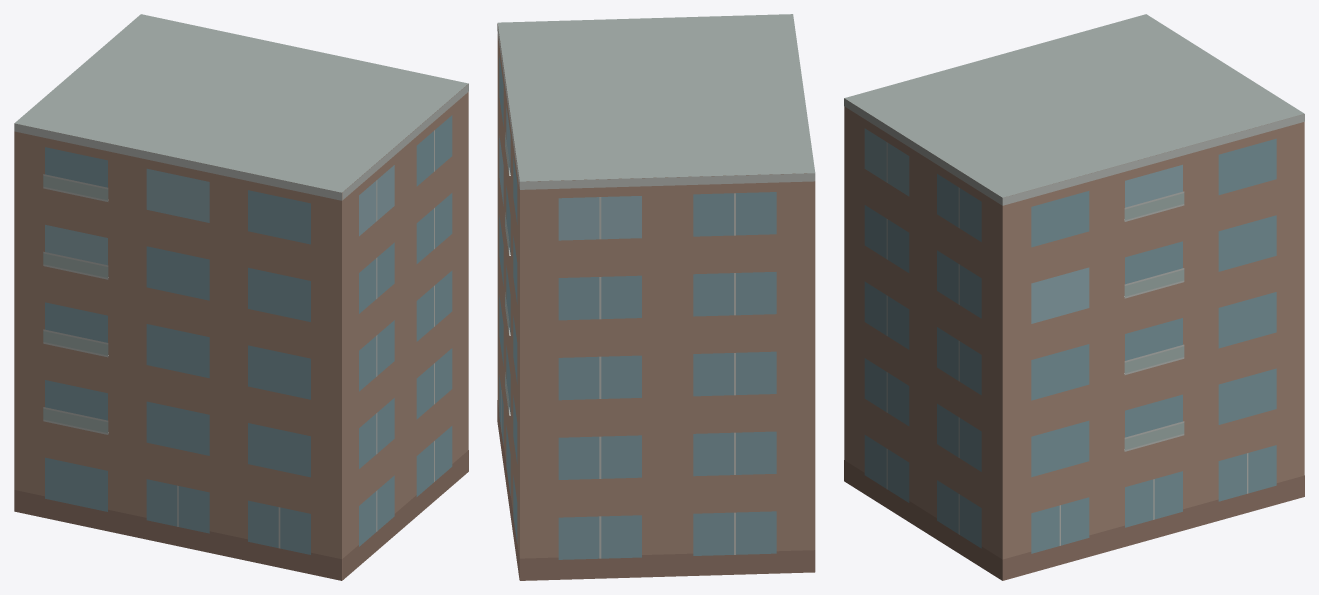
File: survey-upis-32678014.glb
The picture shows the model from 3 angles, left to right: view 1: azimuth 30°, elevation 25°; view 2: azimuth 150°, elevation 25°; view 3: azimuth 270°, elevation 25°; orthographic projection. The views are drawn at different scales.
Visible parts, largest first — view 1: survey-upis-32678014.tmp; view 2: survey-upis-32678014.tmp; view 3: survey-upis-32678014.tmp.
Boxes of the visible parts, bbox=[...] form: survey-upis-32678014.tmp: bbox=[14, 14, 468, 580]; survey-upis-32678014.tmp: bbox=[497, 14, 815, 580]; survey-upis-32678014.tmp: bbox=[844, 14, 1304, 580].
Bounding box in the file's own units: 12.05 × 11.7 × 12.76.
